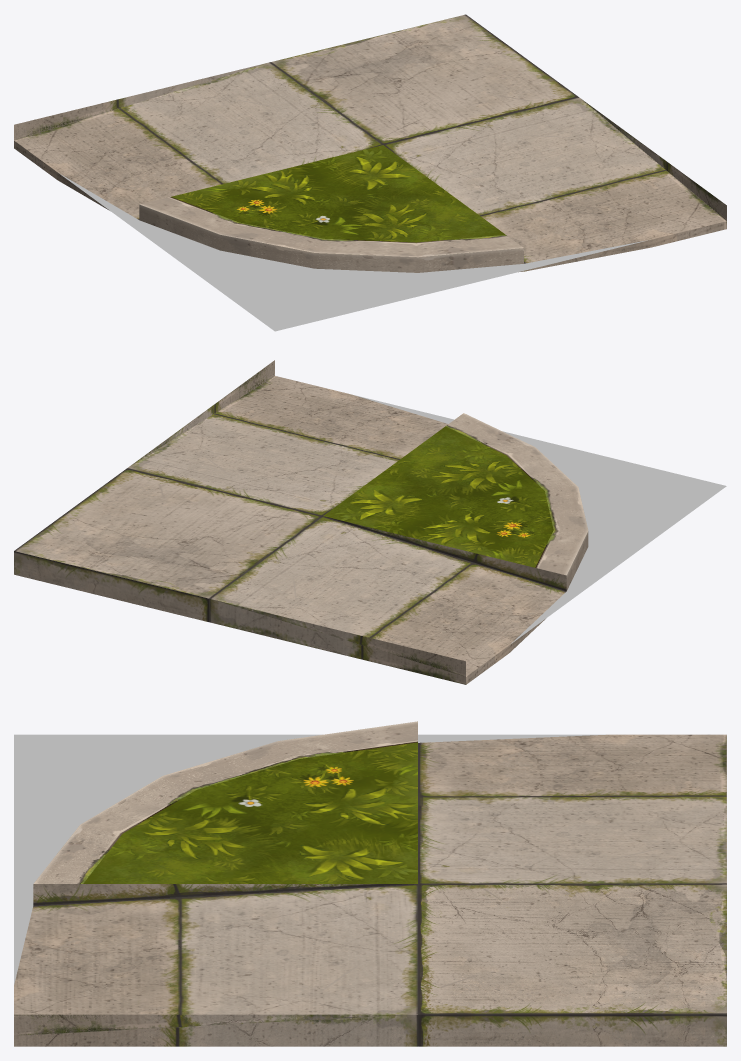
The model's file is sidewalk01_cornerCross.fbx.
The picture shows the model from 3 angles, top to bottom: view 1: azimuth 30°, elevation 25°; view 2: azimuth 150°, elevation 25°; view 3: azimuth 270°, elevation 25°; orthographic projection. The views are drawn at different scales.
Parts seen in each view (by area): view 1: sidewalk01_cornerCross; view 2: sidewalk01_cornerCross; view 3: sidewalk01_cornerCross.
Part boxes in pixels (box(x1,y1,x2,y2)): sidewalk01_cornerCross: box(14, 14, 726, 331); sidewalk01_cornerCross: box(14, 360, 726, 684); sidewalk01_cornerCross: box(14, 721, 726, 1046).
Bounding box in the file's own units: 300 × 15 × 300.
